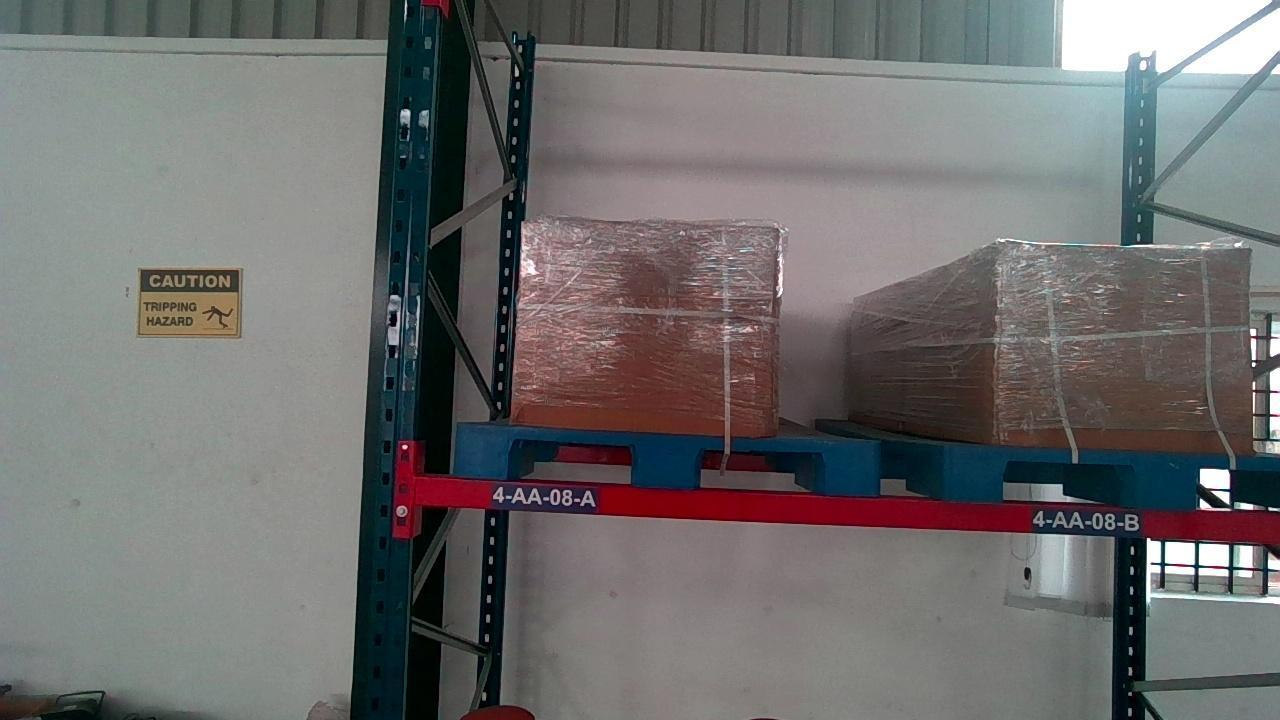h_rack: (420, 476, 1280, 543)
small_pallet: (453, 426, 882, 489), (952, 445, 1280, 504)
